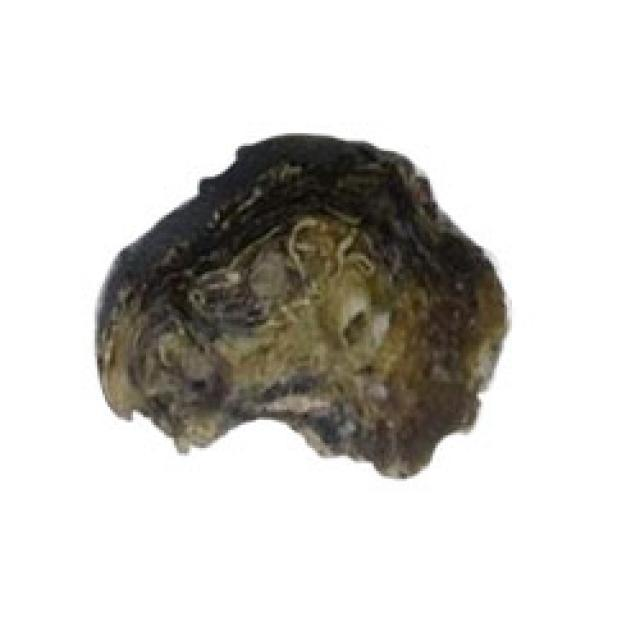Oyster-Closed: (93, 134, 511, 481)
